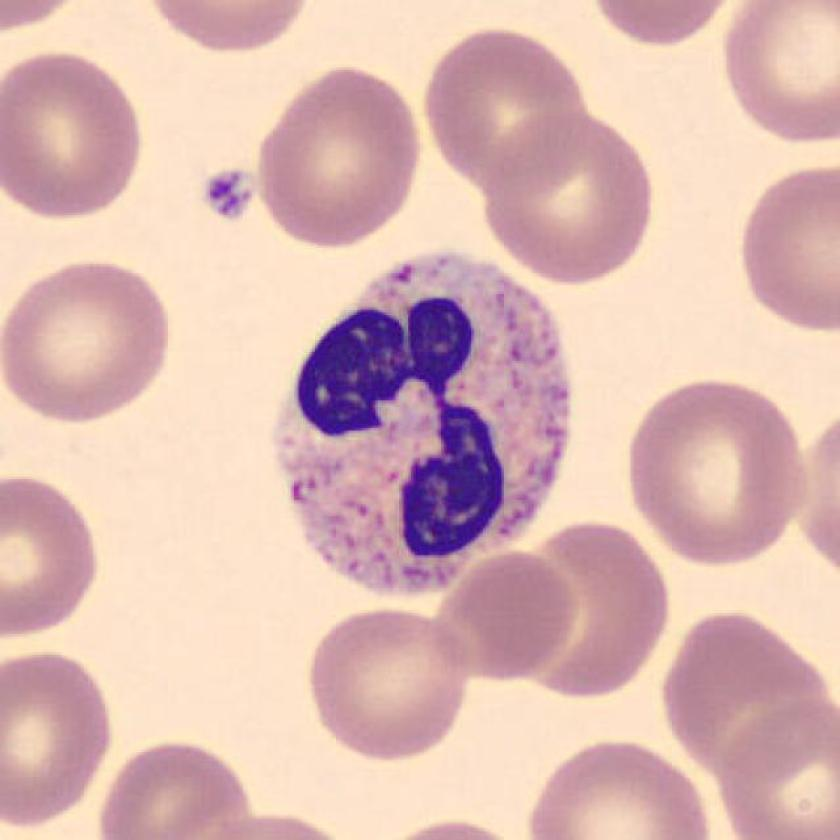neutrophil: (277, 255, 569, 595)
